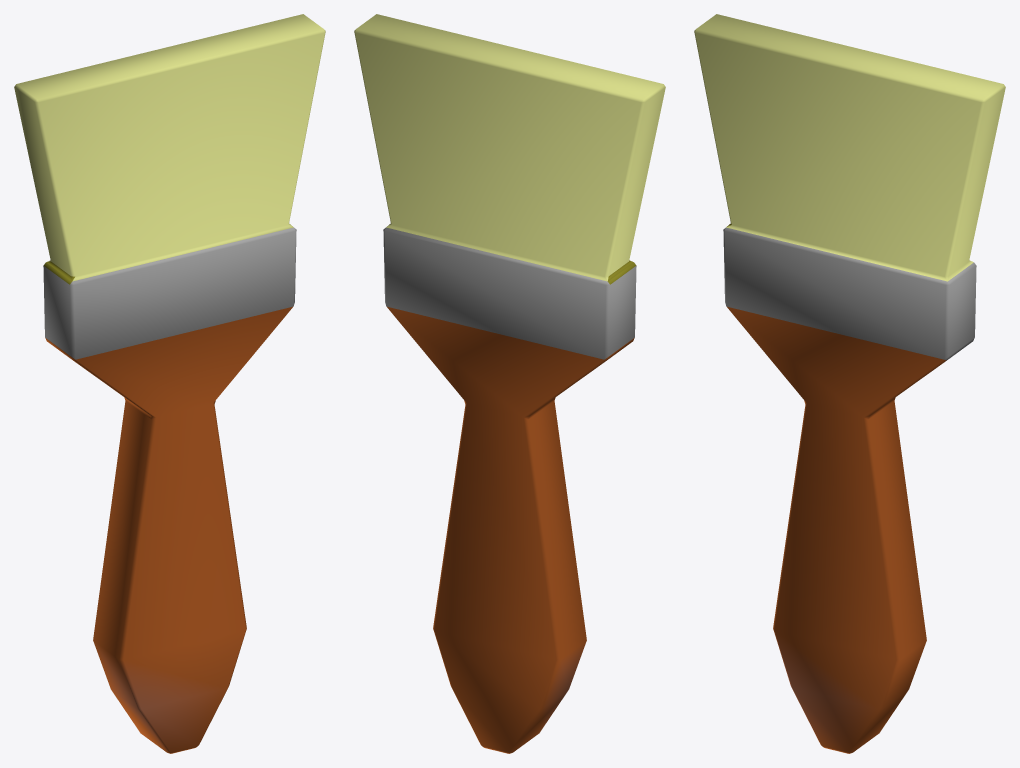
Rendered from paintbrush.glb.
3 renders of one model, left to right at view 1: azimuth 30°, elevation 25°; view 2: azimuth 150°, elevation 25°; view 3: azimuth 330°, elevation 25°, orthographic.
Visible parts, largest first — view 1: paintbrush; view 2: paintbrush; view 3: paintbrush.
Boxes of the visible parts, left/top/right/bottom form: paintbrush: left=14, top=14, right=325, bottom=753; paintbrush: left=354, top=14, right=665, bottom=753; paintbrush: left=694, top=14, right=1005, bottom=753.
Size of the model in its own units: 0.2964 by 0.666 by 0.0515.
